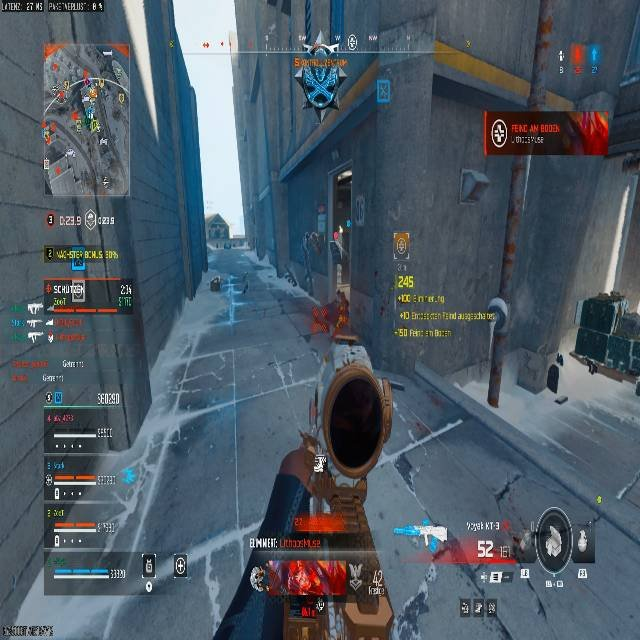player: (295, 40, 346, 123), (208, 274, 244, 325)
